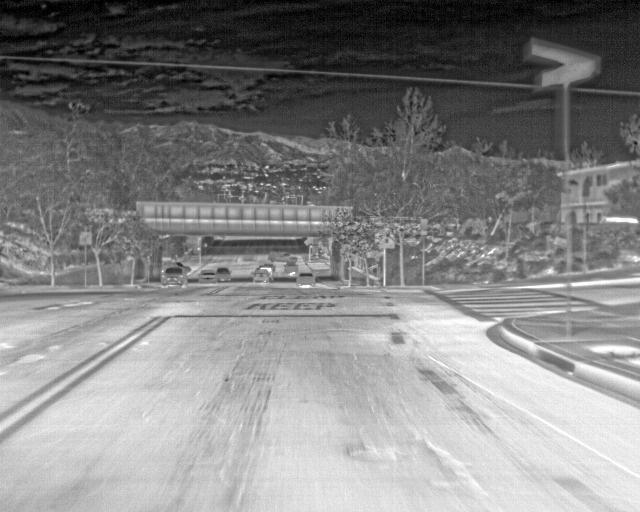car: (160, 266, 187, 288), (293, 271, 316, 290), (197, 268, 217, 285), (250, 268, 271, 284), (217, 265, 232, 282), (284, 264, 297, 279)
